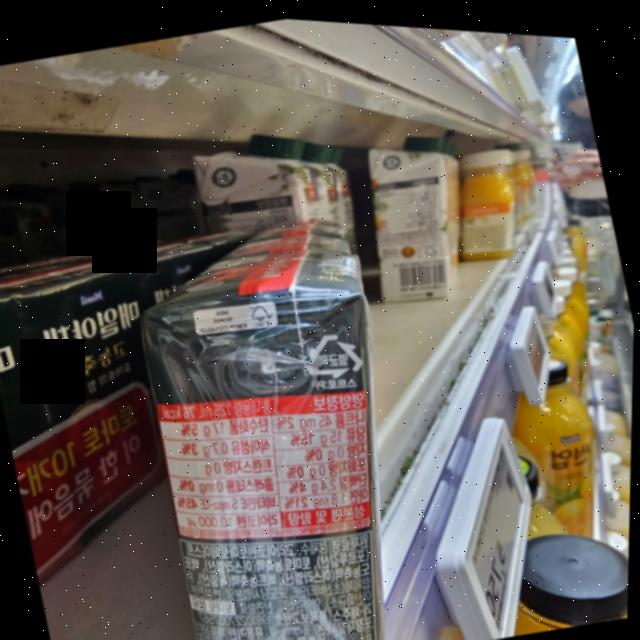SterilizedPack: (296, 318, 369, 381)
